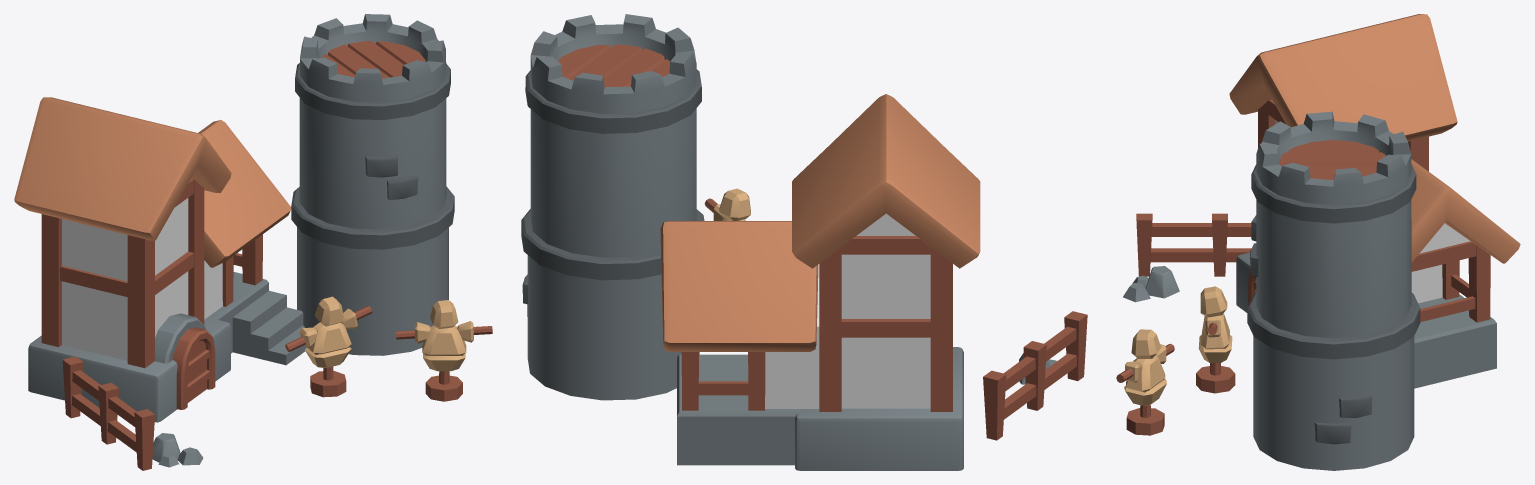
Rendered from barracks.gltf.glb.
3 views of the same model, side by side, from view 1: azimuth 30°, elevation 25°; view 2: azimuth 150°, elevation 25°; view 3: azimuth 270°, elevation 25° (orthographic). The views are drawn at different scales.
Parts seen in each view (by area): view 1: barracks; view 2: barracks; view 3: barracks.
Boxes of the visible parts, x1=… form: barracks: x1=14, y1=14, x2=492, y2=470; barracks: x1=521, y1=14, x2=1087, y2=470; barracks: x1=1116, y1=14, x2=1520, y2=470.
Size of the model in its own units: 65168 by 42549 by 52757.
